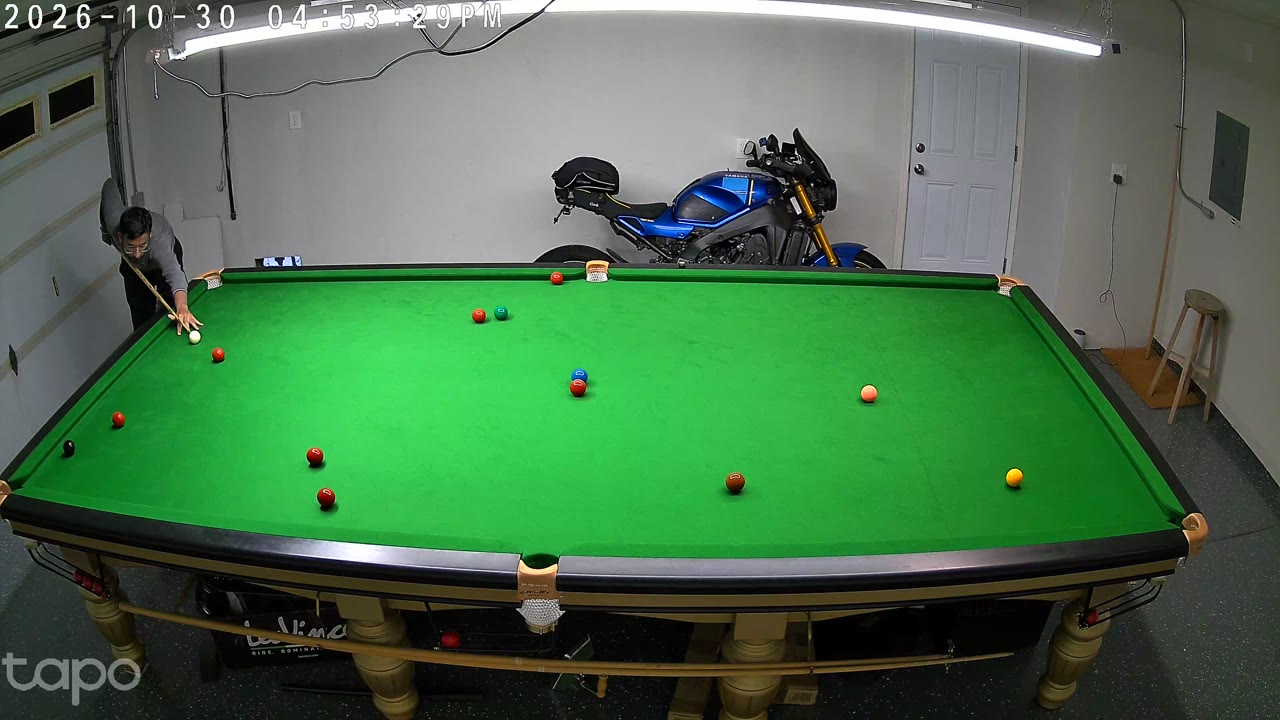black: (63, 438, 75, 459)
brown: (726, 471, 744, 496)
green: (494, 305, 507, 322)
pink: (860, 384, 876, 404)
red: (317, 486, 336, 513), (307, 445, 323, 469), (570, 378, 586, 398), (112, 411, 125, 430), (472, 308, 485, 326), (212, 346, 224, 365), (551, 271, 562, 287)
white: (190, 329, 201, 346)
yellow: (1006, 467, 1023, 489)
